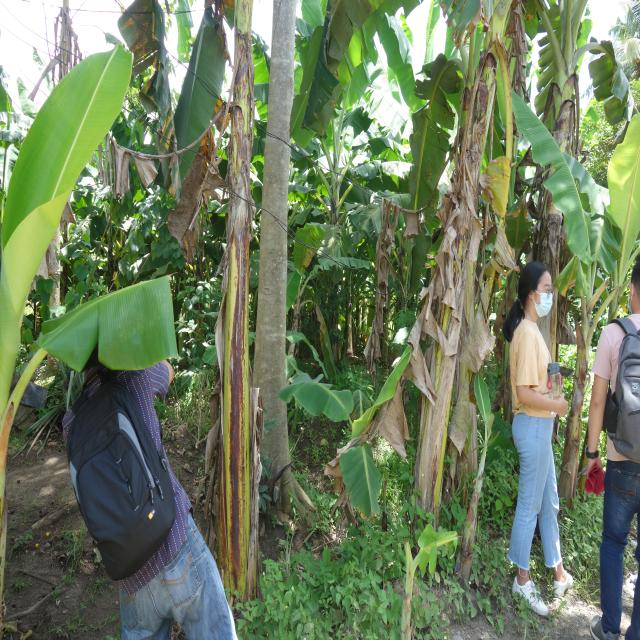Banana-plant: (399, 0, 512, 536), (224, 0, 261, 596)
